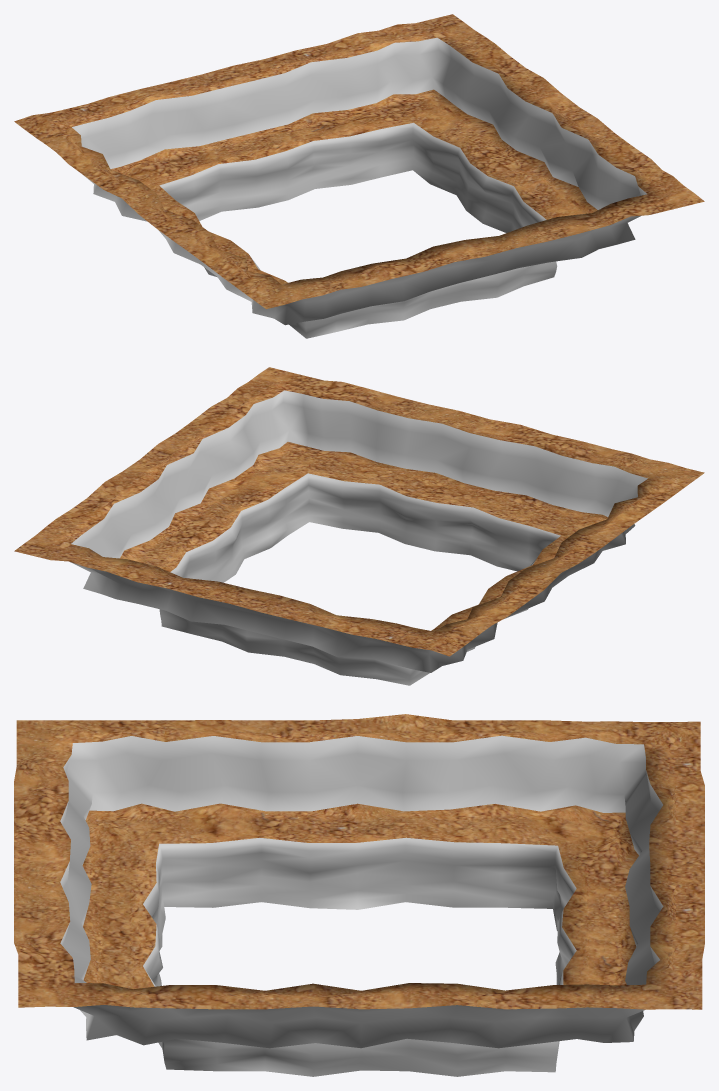
The model's file is quarry.fbx.
The picture shows the model from 3 angles, top to bottom: view 1: azimuth 30°, elevation 25°; view 2: azimuth 150°, elevation 25°; view 3: azimuth 270°, elevation 25°; orthographic projection. The views are drawn at different scales.
Visible parts, largest first — view 1: Plane.003; view 2: Plane.003; view 3: Plane.003.
Part boxes in pixels (x1,y1,x2,y2): Plane.003: [14, 14, 704, 338]; Plane.003: [14, 367, 704, 685]; Plane.003: [14, 714, 704, 1076].
Bounding box in the file's own units: 4854 × 1025 × 4898.
